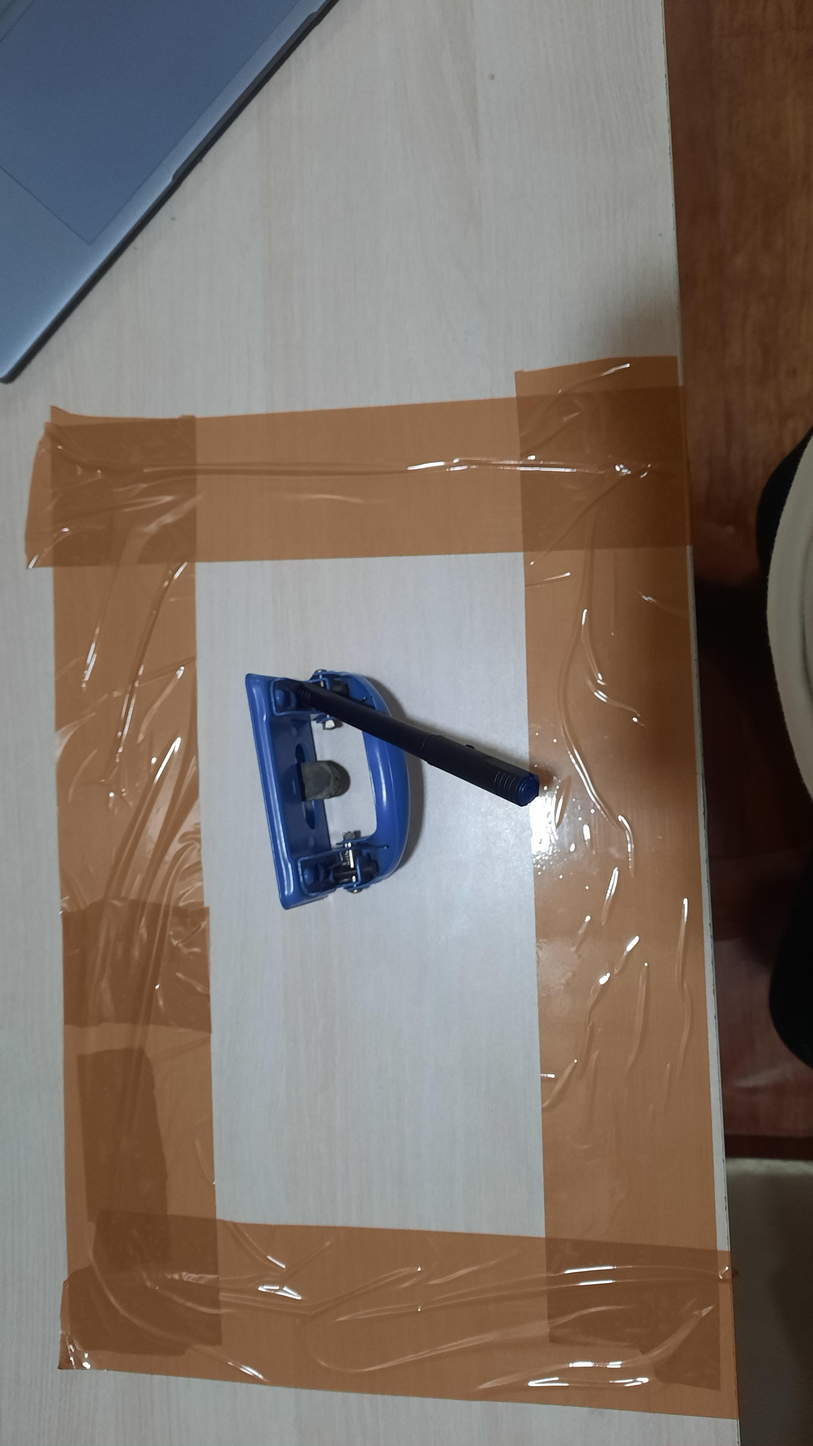Pen: (282, 678, 541, 808)
Punch: (245, 669, 412, 910)
